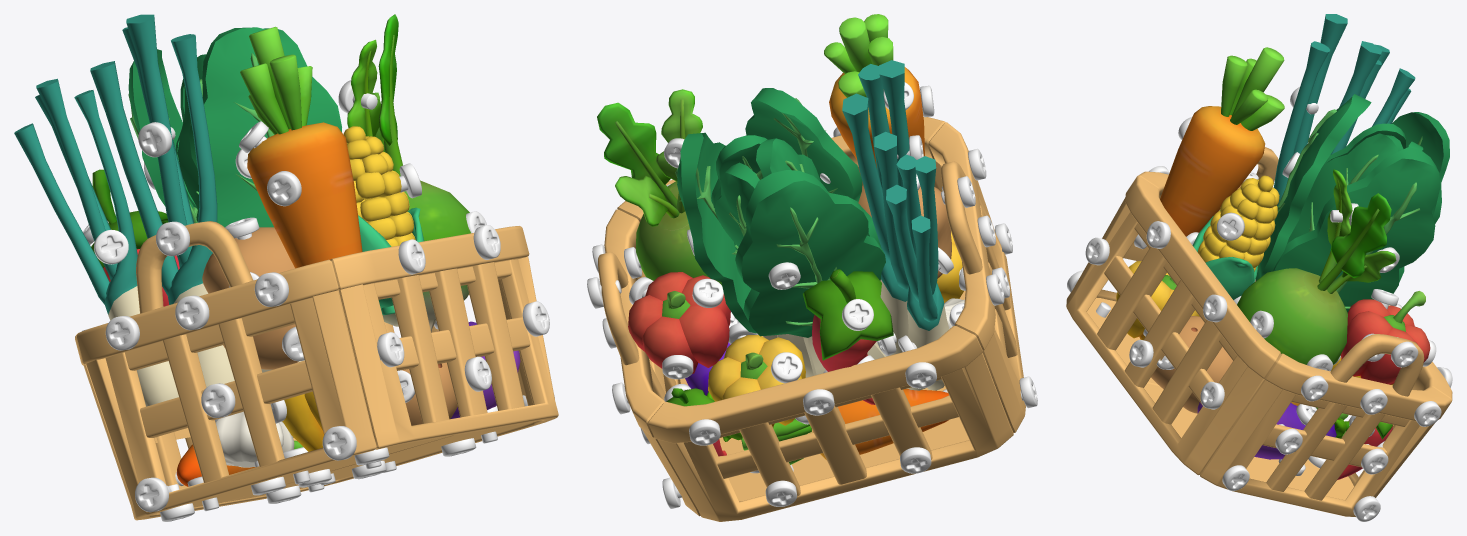
The model's file is VegetableBag_GroupD.fbx.
The picture shows the model from 3 angles, left to right: view 1: azimuth 30°, elevation 25°; view 2: azimuth 150°, elevation 25°; view 3: azimuth 270°, elevation 25°; orthographic projection. The views are drawn at different scales.
Parts seen in each view (by area): view 1: VegetableBag.017, VegetableBag.016, VegetableBag.002, VegetableBag.001, VegetableBag.020, Screw (×15), VegetableBag.022, VegetableBag.011, VegetableBag.004, VegetableBag.021, VegetableBag.014, VegetableBag.019 (+8 smaller); view 2: VegetableBag.020, VegetableBag.014, VegetableBag.011, VegetableBag.017, VegetableBag.001, Screw (×10), VegetableBag.022, VegetableBag.015, VegetableBag.008, VegetableBag.009, VegetableBag.002, VegetableBag.006 (+8 smaller); view 3: VegetableBag.016, VegetableBag.020, VegetableBag.015, VegetableBag.011, VegetableBag.002, Screw (×14), VegetableBag.004, VegetableBag.001, VegetableBag.008, VegetableBag.013, VegetableBag.007, VegetableBag.017 (+7 smaller).
Boxes of the visible parts, x1=… form: VegetableBag.017: x1=77, y1=221, x2=376, y2=518; VegetableBag.016: x1=330, y1=226, x2=558, y2=449; VegetableBag.002: x1=240, y1=26, x2=362, y2=268; VegetableBag.001: x1=90, y1=14, x2=234, y2=387; VegetableBag.020: x1=128, y1=27, x2=341, y2=422; Screw (×15): x1=94, y1=80, x2=549, y2=512; VegetableBag.022: x1=14, y1=78, x2=178, y2=406; VegetableBag.011: x1=347, y1=14, x2=470, y2=332; VegetableBag.004: x1=343, y1=126, x2=424, y2=315; VegetableBag.021: x1=202, y1=227, x2=298, y2=369; VegetableBag.014: x1=75, y1=333, x2=308, y2=520; VegetableBag.019: x1=215, y1=411, x2=294, y2=467; VegetableBag.020: x1=675, y1=88, x2=885, y2=377; VegetableBag.014: x1=648, y1=326, x2=1013, y2=521; VegetableBag.011: x1=597, y1=89, x2=722, y2=285; VegetableBag.017: x1=929, y1=122, x2=1025, y2=432; VegetableBag.001: x1=842, y1=60, x2=926, y2=390; Screw (×10): x1=662, y1=262, x2=936, y2=506; VegetableBag.022: x1=886, y1=154, x2=949, y2=390; VegetableBag.015: x1=598, y1=209, x2=700, y2=516; VegetableBag.008: x1=628, y1=272, x2=730, y2=373; VegetableBag.009: x1=803, y1=269, x2=893, y2=404; VegetableBag.002: x1=824, y1=14, x2=924, y2=167; VegetableBag.006: x1=708, y1=335, x2=805, y2=427; VegetableBag.016: x1=1066, y1=176, x2=1280, y2=475; VegetableBag.020: x1=1254, y1=94, x2=1449, y2=312; VegetableBag.015: x1=1200, y1=334, x2=1451, y2=516; VegetableBag.011: x1=1237, y1=169, x2=1396, y2=364; VegetableBag.002: x1=1160, y1=47, x2=1284, y2=236; Screw (×14): x1=1085, y1=212, x2=1441, y2=521; VegetableBag.004: x1=1192, y1=175, x2=1279, y2=299; VegetableBag.001: x1=1273, y1=14, x2=1381, y2=206; VegetableBag.008: x1=1340, y1=291, x2=1430, y2=384; VegetableBag.013: x1=1144, y1=384, x2=1353, y2=500; VegetableBag.007: x1=1151, y1=316, x2=1232, y2=413; VegetableBag.017: x1=1096, y1=147, x2=1278, y2=301.
Size of the model in its own units: 10.19 by 12.04 by 9.98.
8 materials, 7 textured.
